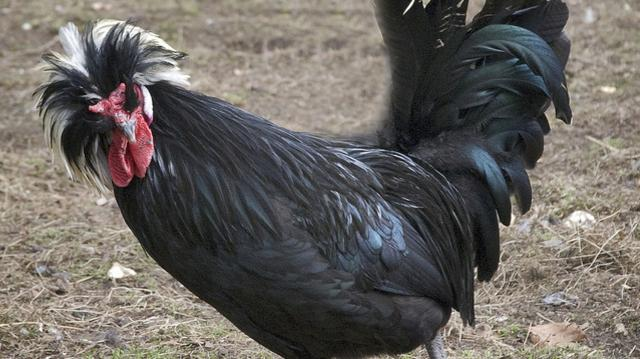Chicken: (38, 0, 571, 359)
